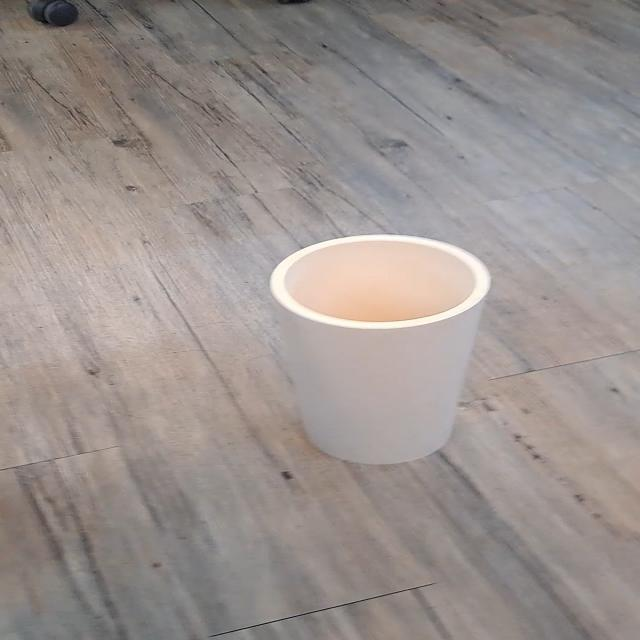CORAL: (247, 212, 528, 477)
